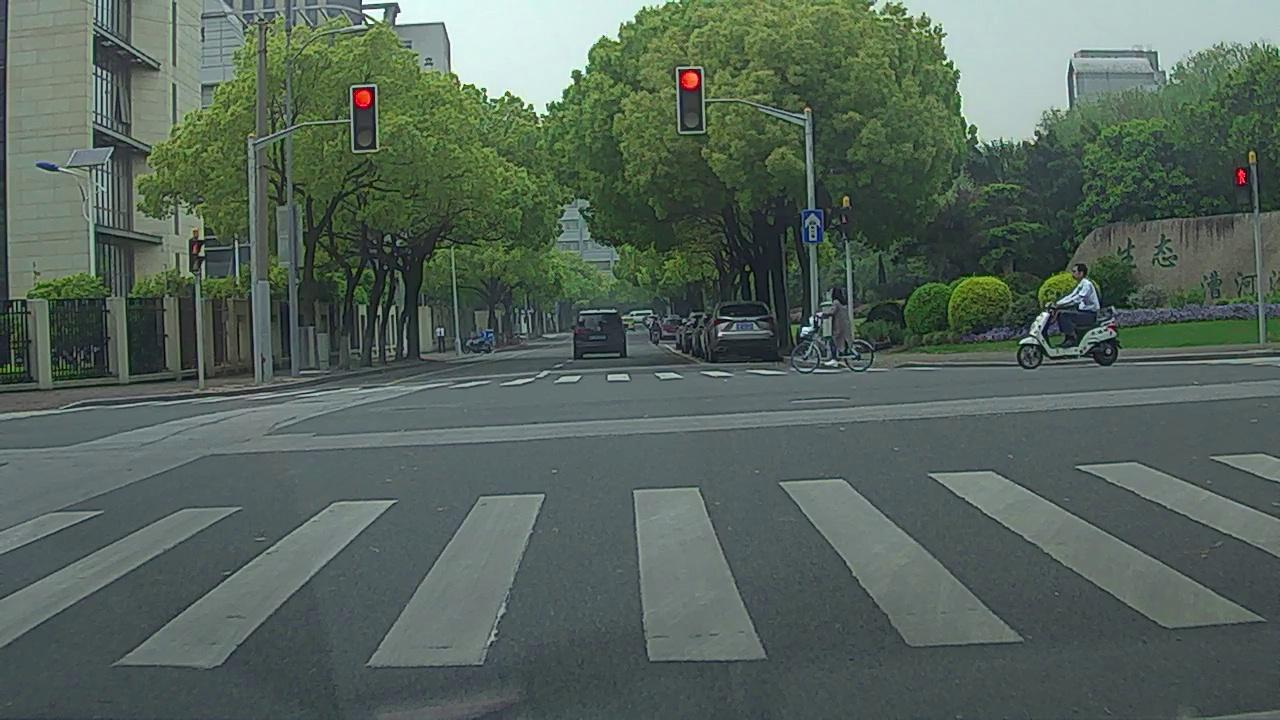traffic_light: (352, 85, 377, 148), (681, 69, 705, 132)
